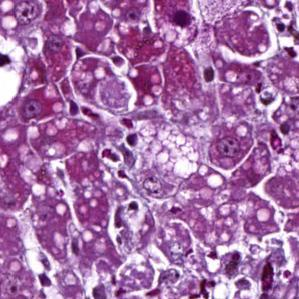ballooning: (212, 7, 276, 63), (150, 4, 205, 47), (3, 34, 30, 111)
